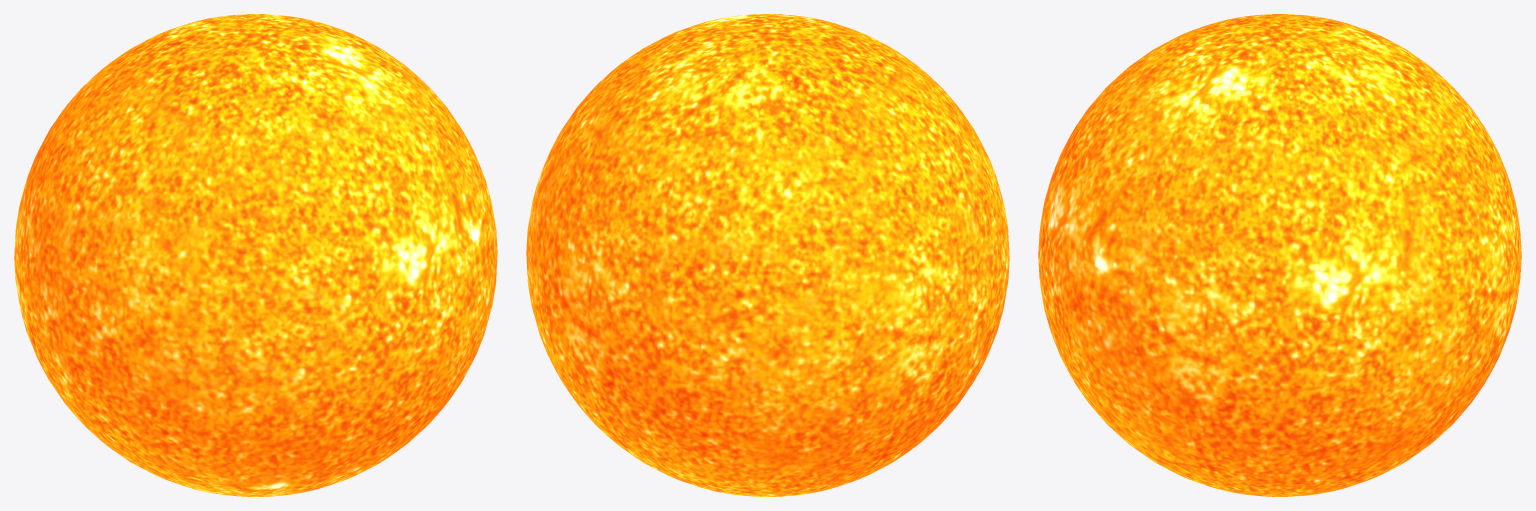
File: sun.glb
3 views of the same model, side by side, from view 1: azimuth 30°, elevation 25°; view 2: azimuth 150°, elevation 25°; view 3: azimuth 270°, elevation 25° (orthographic).
Visible parts, largest first — view 1: UnstableStarref; view 2: UnstableStarref; view 3: UnstableStarref.
Boxes of the visible parts, x1,y1,x2,y2 form: UnstableStarref: [14, 14, 497, 496]; UnstableStarref: [526, 14, 1009, 496]; UnstableStarref: [1038, 14, 1521, 496].
Size of the model in its own units: 1.78 by 1.78 by 1.78.
Materials: 2 (2 with a texture image).
